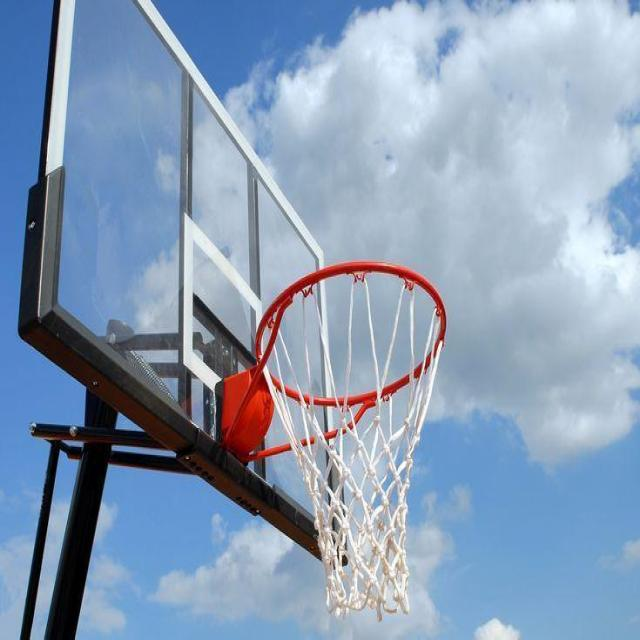hoop: (232, 279, 472, 613)
